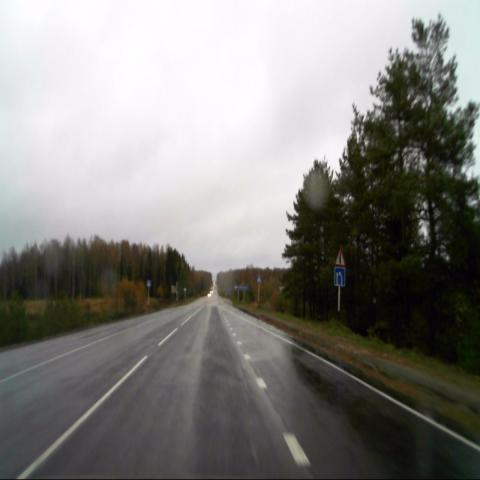5_15_5: (334, 266, 346, 288)
